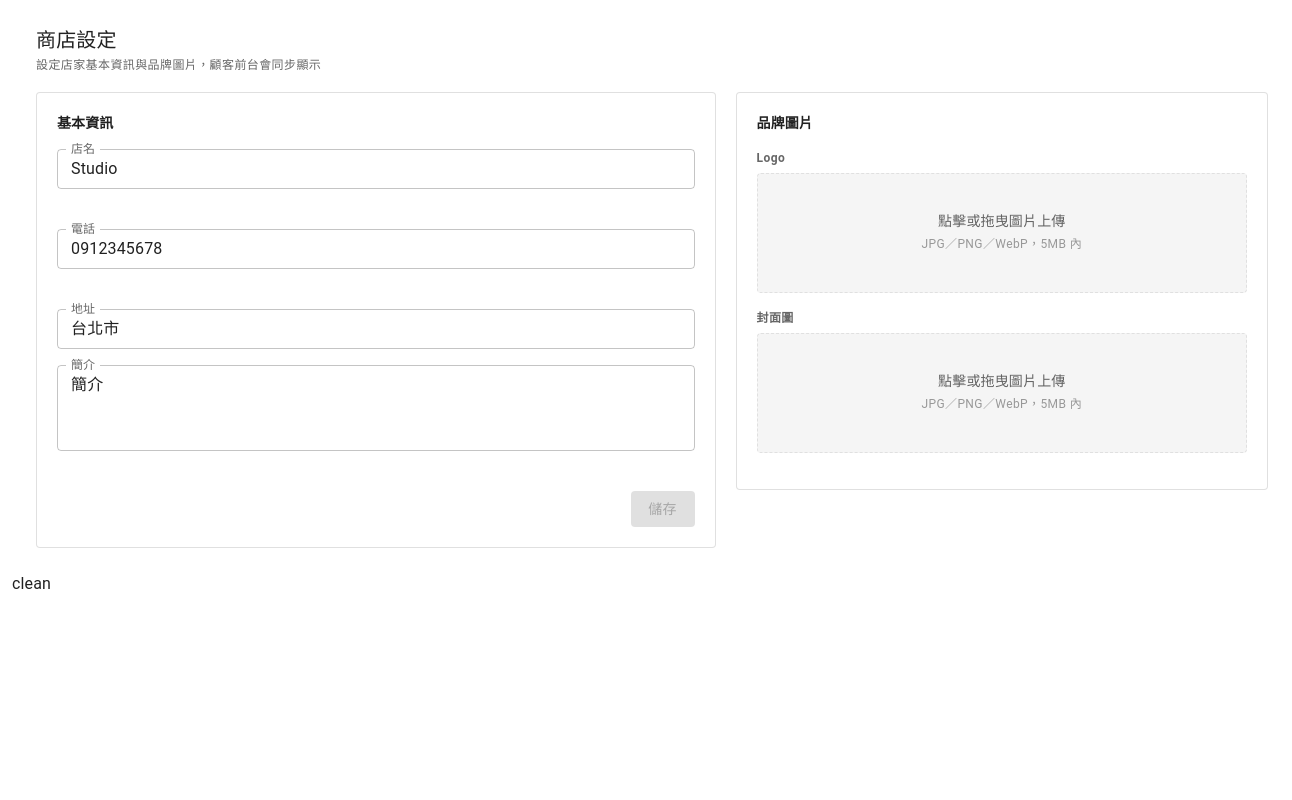
Test: StoreSettingsForm 未儲存變更回報（TASK-082，key: store-basic-info） › 儲存成功：回到乾淨
Type "X" into the field labelled "店名" at (376, 169), box [57,149,695,189]
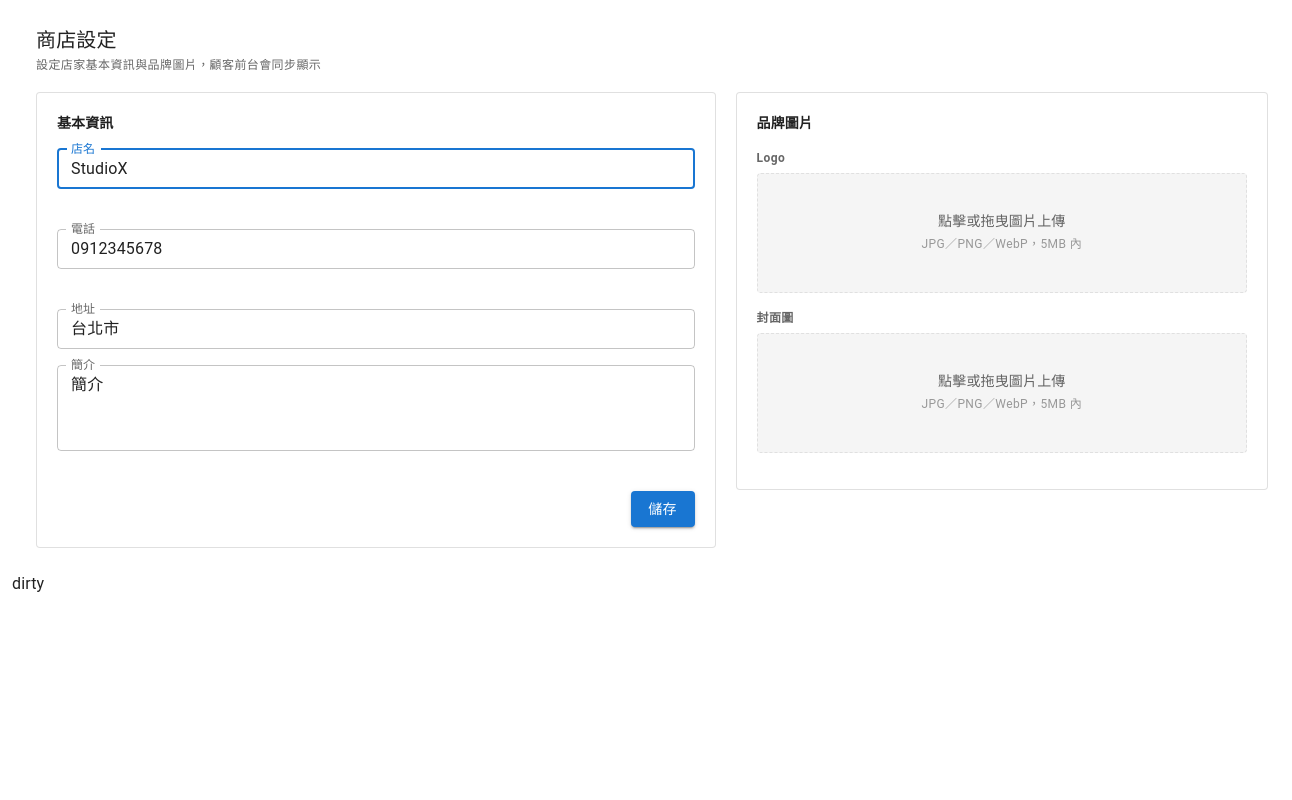
expect the text with test id "probe" reads "dirty": met, box [12,574,44,593]
Click the button "儲存" at (663, 509), box [631,491,695,527]
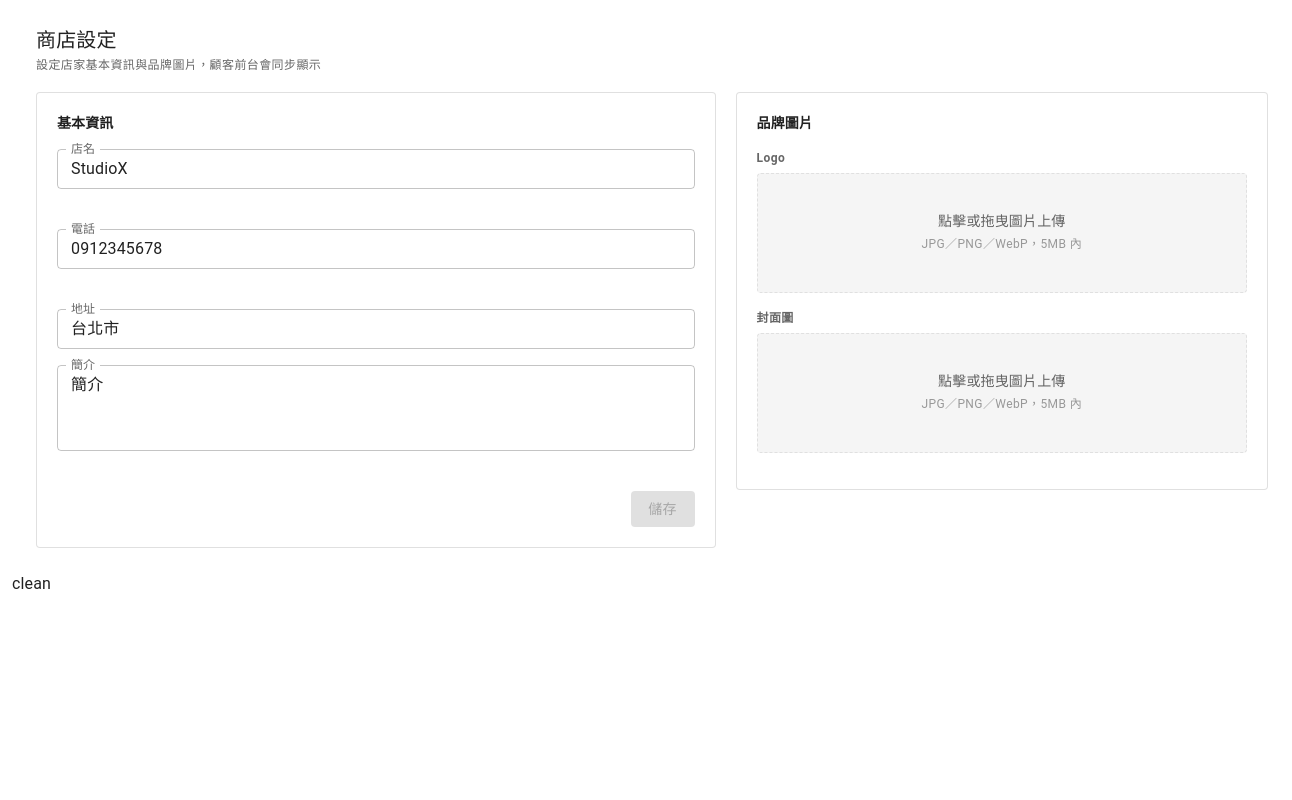
expect the text with test id "probe" reads "clean": met, box [12,574,51,593]
